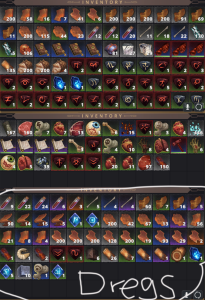ash log: (1, 120, 16, 136)
birch log: (1, 40, 16, 57), (188, 24, 204, 39)
blood: (50, 194, 66, 210), (120, 24, 136, 39), (16, 194, 31, 210), (33, 194, 48, 210), (86, 25, 101, 40), (67, 194, 82, 209), (1, 193, 14, 210), (104, 25, 119, 39)
bone: (101, 194, 118, 210), (119, 194, 135, 210), (137, 25, 153, 40), (171, 24, 187, 39), (84, 194, 100, 209), (154, 25, 169, 39)
chaos ember: (120, 120, 135, 135)
copper ore: (18, 41, 32, 57)
durable hide: (137, 7, 153, 23), (136, 194, 152, 210), (170, 194, 186, 210), (153, 193, 168, 210), (155, 7, 170, 23), (188, 194, 203, 210), (120, 7, 135, 22), (172, 7, 187, 22), (189, 7, 204, 22), (104, 7, 118, 22), (2, 25, 15, 39)
ethereal dust: (188, 120, 204, 136)
flexible hide: (50, 210, 66, 227), (16, 211, 31, 227), (33, 211, 48, 227), (1, 211, 14, 227)
granite stone: (16, 263, 32, 279)
iron ore: (103, 41, 119, 57)
limestone stone: (137, 41, 152, 57)
marble stone: (121, 41, 135, 57)
oak heartwood: (170, 246, 185, 261)
oak log: (120, 246, 135, 261), (137, 246, 151, 262), (1, 59, 16, 73), (102, 247, 117, 261), (154, 246, 168, 260)
slate stone: (85, 246, 99, 261)
soft hide: (136, 210, 152, 227), (51, 24, 67, 40), (102, 210, 117, 227), (34, 24, 50, 39), (69, 24, 85, 39), (119, 211, 134, 227), (153, 211, 168, 227), (170, 211, 186, 226), (17, 25, 32, 39)
strong hide: (34, 6, 50, 22), (188, 211, 204, 227), (1, 6, 16, 23), (52, 7, 67, 22), (16, 229, 31, 244), (18, 6, 32, 22), (34, 229, 48, 244), (1, 229, 13, 245)
tin ore: (34, 154, 50, 170)
tough hide: (86, 7, 102, 22), (170, 229, 186, 244), (50, 229, 65, 244), (85, 229, 100, 244), (102, 229, 117, 244), (119, 229, 134, 244), (136, 229, 151, 244), (153, 229, 168, 244), (188, 229, 203, 244), (70, 7, 84, 22), (68, 230, 83, 244)
yew log: (33, 245, 48, 261), (1, 246, 14, 262)
